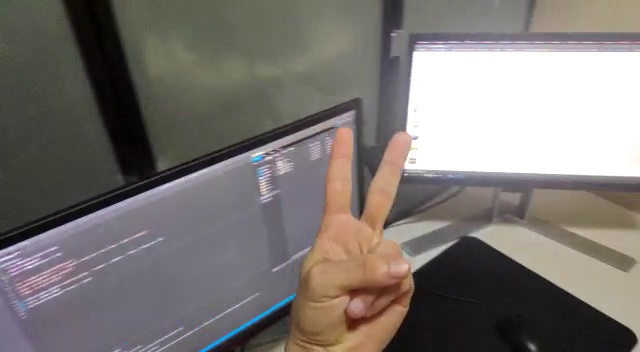Peace: (277, 124, 425, 351)
